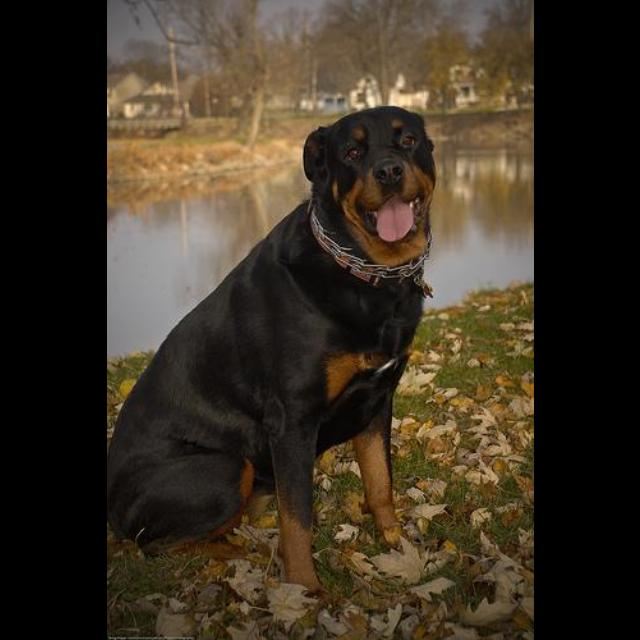rottweiler: (107, 105, 437, 601)
